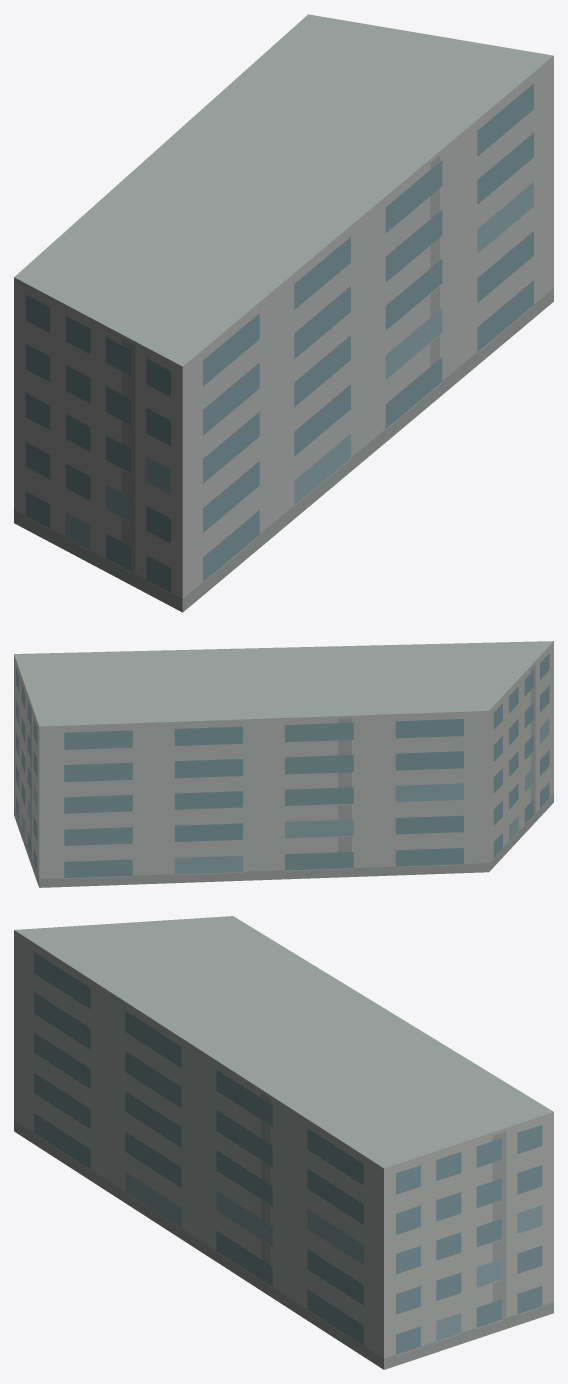
The model's file is residential-73ef2dfc-c324-494b-ab38-9aa2b618970a.glb.
3 views of the same model, one above another, from view 1: azimuth 30°, elevation 25°; view 2: azimuth 150°, elevation 25°; view 3: azimuth 270°, elevation 25° (orthographic). The views are drawn at different scales.
Visible parts, largest first — view 1: residential-73ef2dfc-c324-494b-ab38-9aa2b618970a.tmp; view 2: residential-73ef2dfc-c324-494b-ab38-9aa2b618970a.tmp; view 3: residential-73ef2dfc-c324-494b-ab38-9aa2b618970a.tmp.
Part boxes in pixels (left/top/right/bottom): residential-73ef2dfc-c324-494b-ab38-9aa2b618970a.tmp: left=14, top=14, right=553, bottom=612; residential-73ef2dfc-c324-494b-ab38-9aa2b618970a.tmp: left=14, top=641, right=553, bottom=887; residential-73ef2dfc-c324-494b-ab38-9aa2b618970a.tmp: left=14, top=916, right=553, bottom=1369.
Size of the model in its own units: 41.02 by 15.25 by 37.06.
